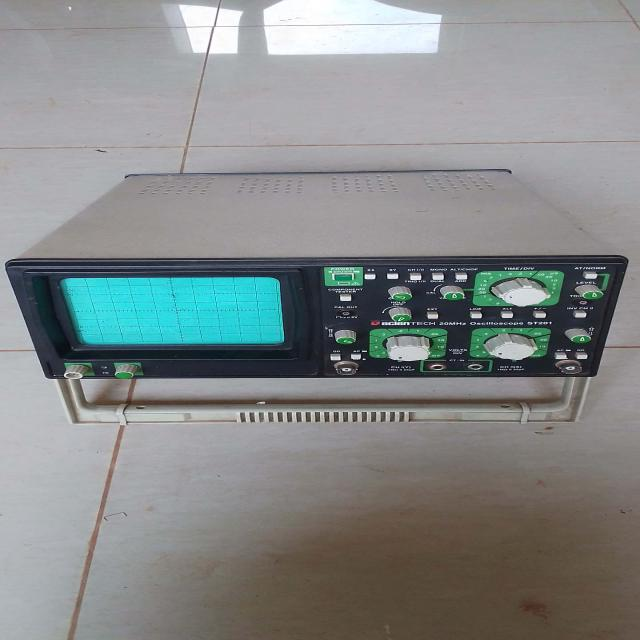Cathode Ray Oscilloscope: (0, 147, 624, 445)
